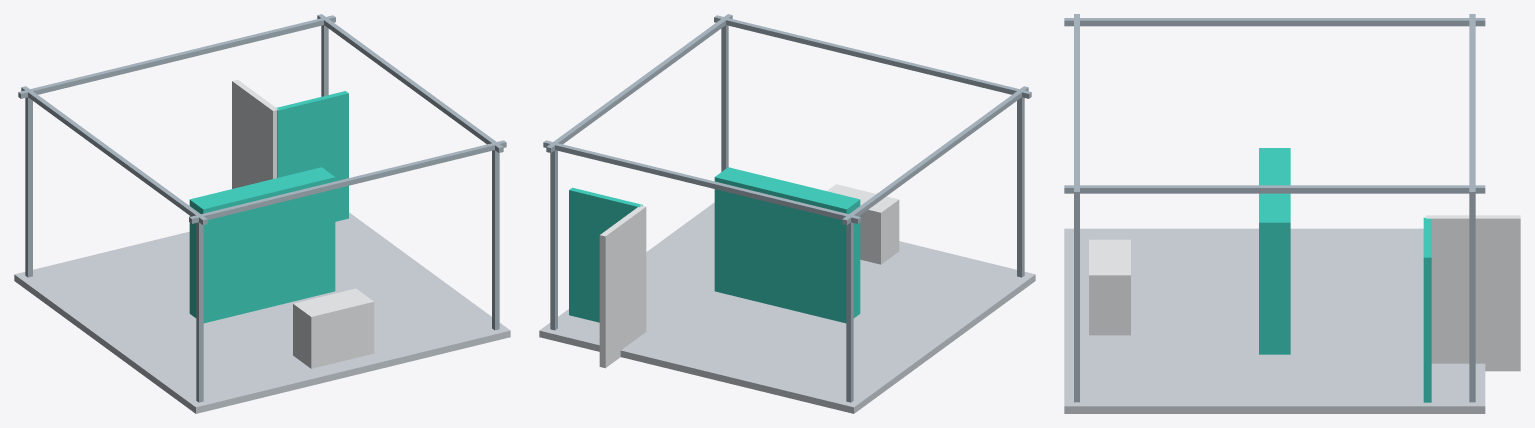
3 renders of one model, left to right at view 1: azimuth 30°, elevation 25°; view 2: azimuth 150°, elevation 25°; view 3: azimuth 270°, elevation 25°, orthographic. The views are drawn at different scales.
Visible parts, largest first — view 1: Exhibition Booth Concept; view 2: Exhibition Booth Concept; view 3: Exhibition Booth Concept.
Part boxes in pixels (bbox=[...]): Exhibition Booth Concept: bbox=[14, 14, 510, 413]; Exhibition Booth Concept: bbox=[539, 14, 1035, 413]; Exhibition Booth Concept: bbox=[1064, 14, 1520, 413].
Bounding box in the file's own units: 6 × 3.49 × 6.51.
